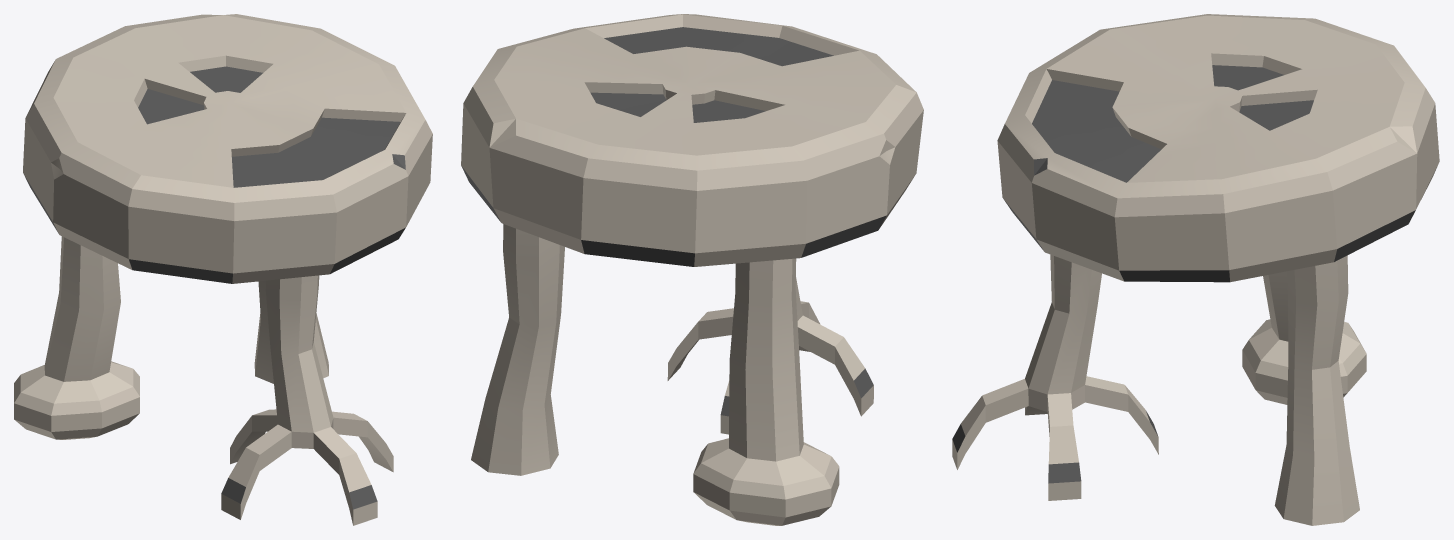
Rendered from sillas 4.fbx.
The picture shows the model from 3 angles, left to right: view 1: azimuth 30°, elevation 25°; view 2: azimuth 150°, elevation 25°; view 3: azimuth 270°, elevation 25°; orthographic projection. The views are drawn at different scales.
Parts seen in each view (by area): view 1: Cube.003; view 2: Cube.003; view 3: Cube.003.
Boxes of the visible parts, <box> form: Cube.003: <box>14,14,432,525</box>; Cube.003: <box>461,14,923,525</box>; Cube.003: <box>952,14,1439,525</box>.
Bounding box in the file's own units: 172 × 161 × 192.
